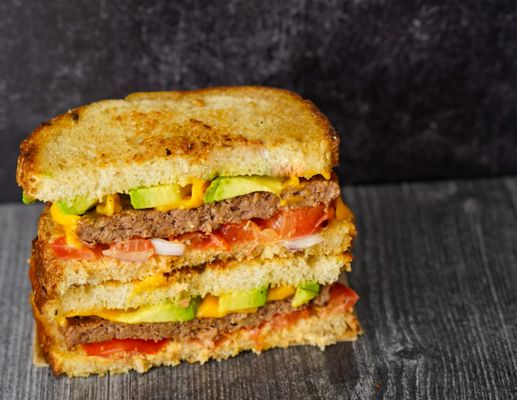soup: (15, 84, 363, 379)
